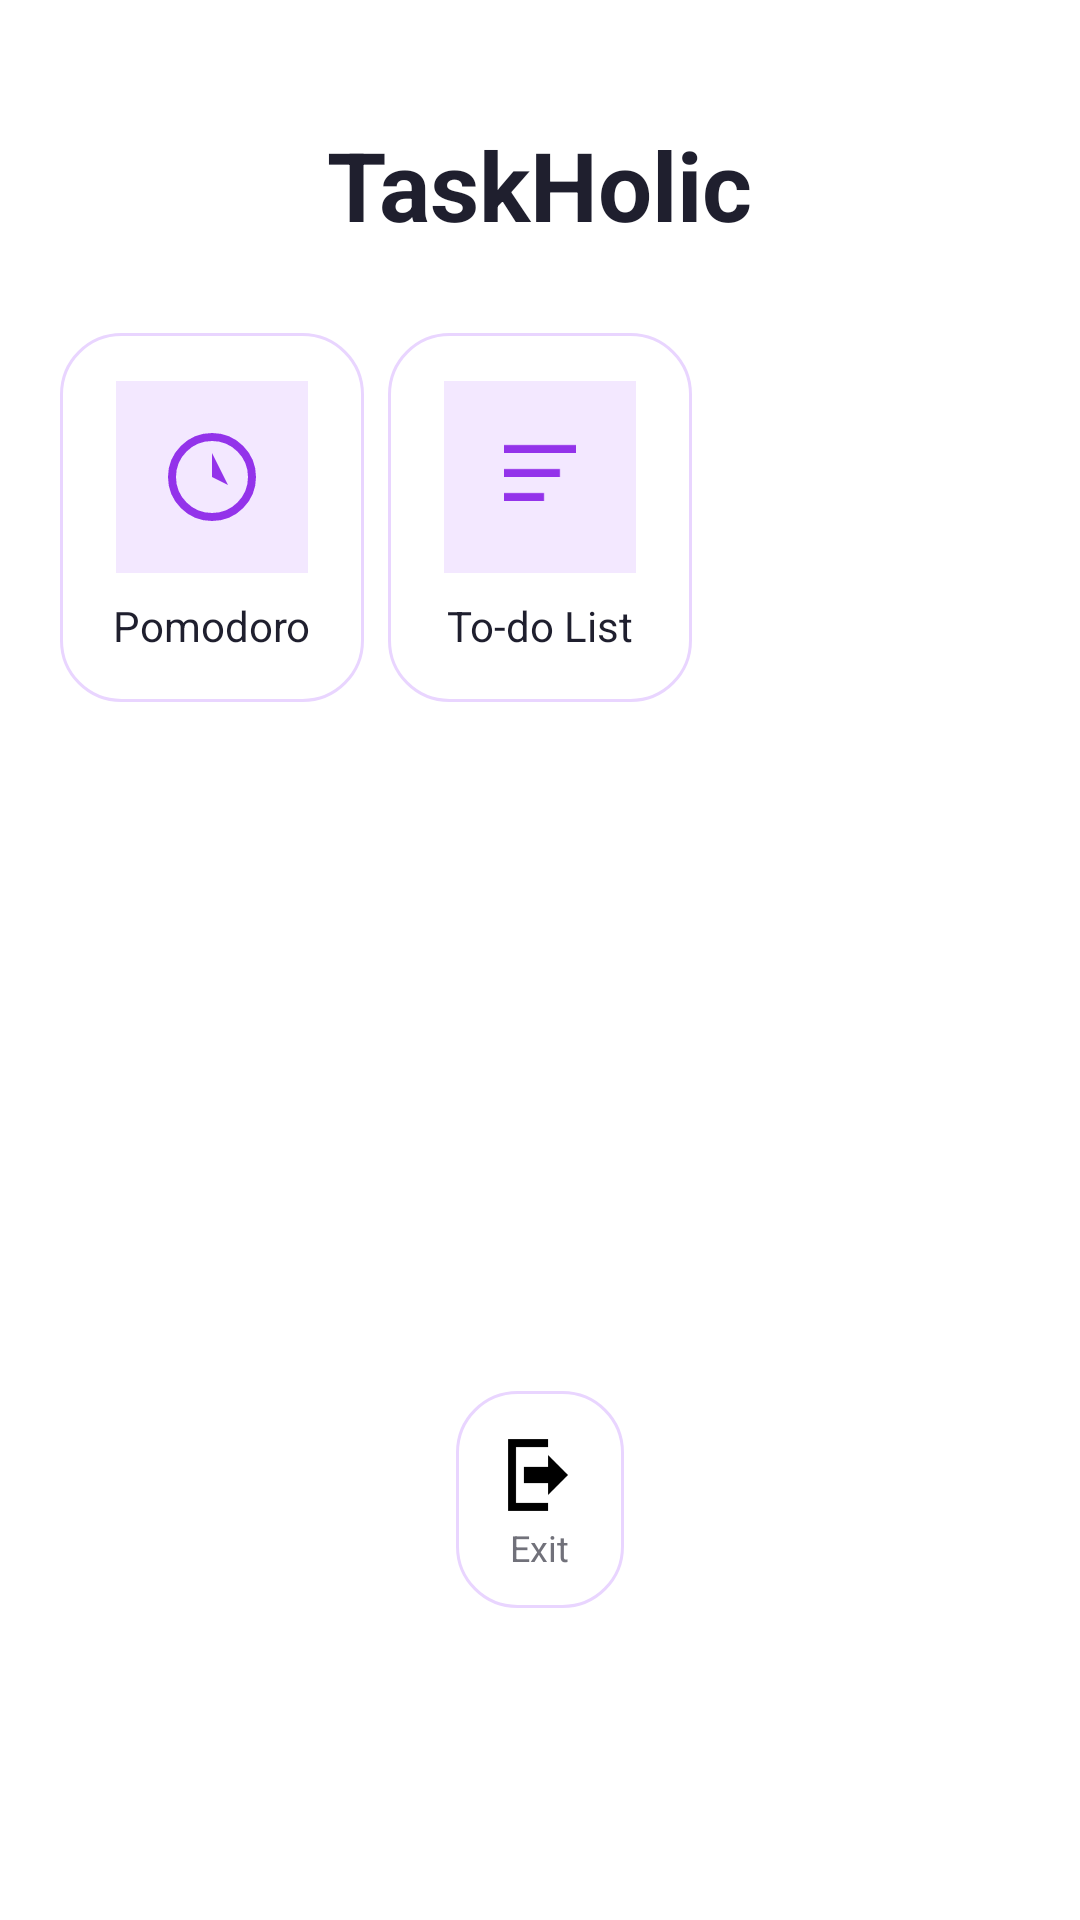

Icons on this 1080 x 1920 Android screen, each with its box as (x1, y1, x2, y2):
timer: (168, 433, 256, 521)
